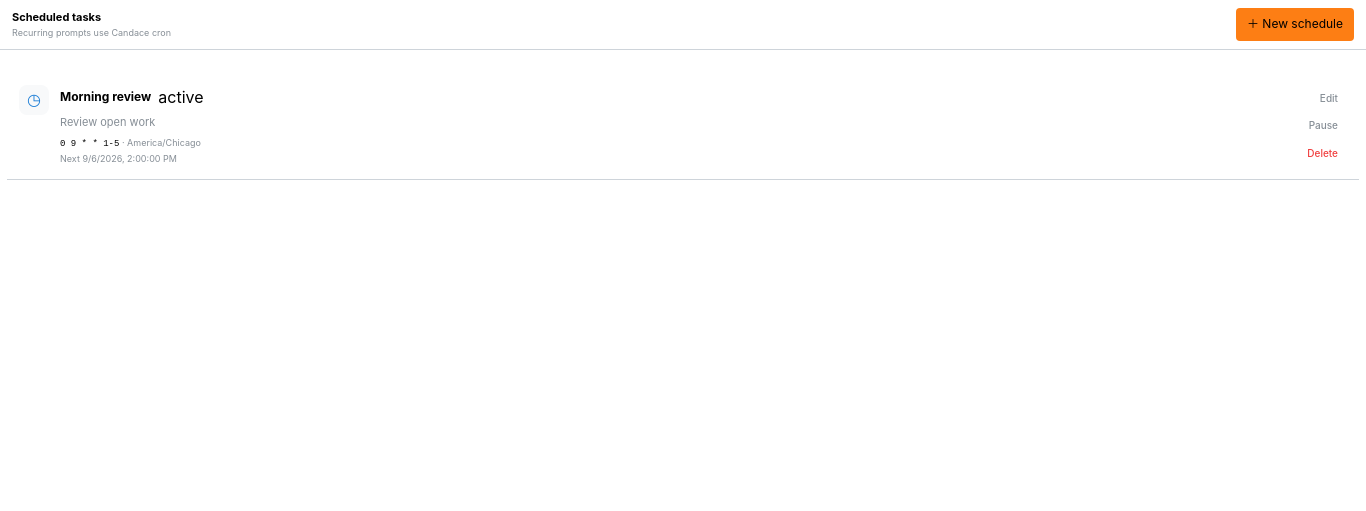
SchedulesPane › releases status and delete controls after rejected transports
Check: the text "Morning review" is shown, box [60,88,151,106]
Click the button "Pause".
click(1323, 126)  # box [1300,112,1347,140]
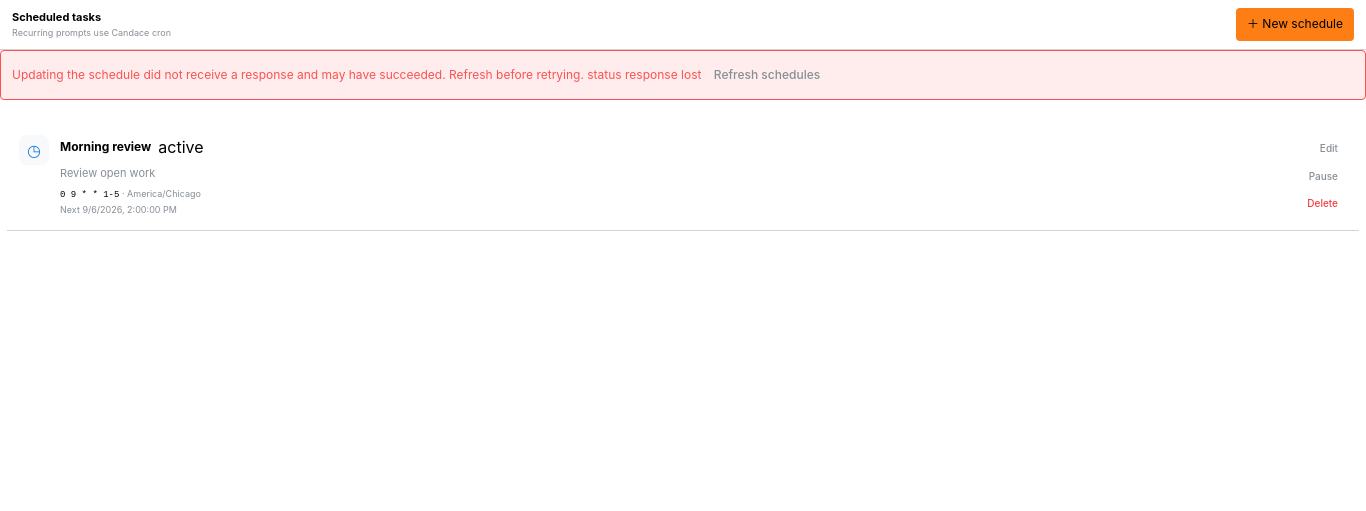
Check: the message shows "status response lost", box [12,67,701,82]
Click the button "Pause".
click(1323, 176)  # box [1300,163,1347,190]
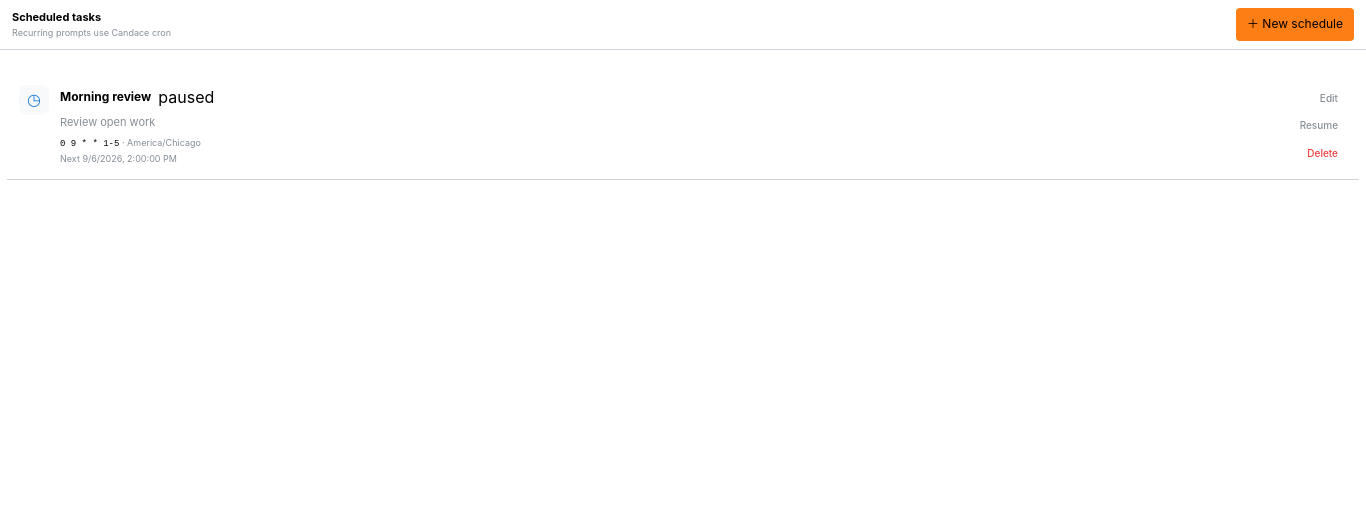
Check: the button "Resume" is shown, box [1291,112,1347,140]
Click the button "Delete".
click(1323, 153)  # box [1298,140,1347,167]
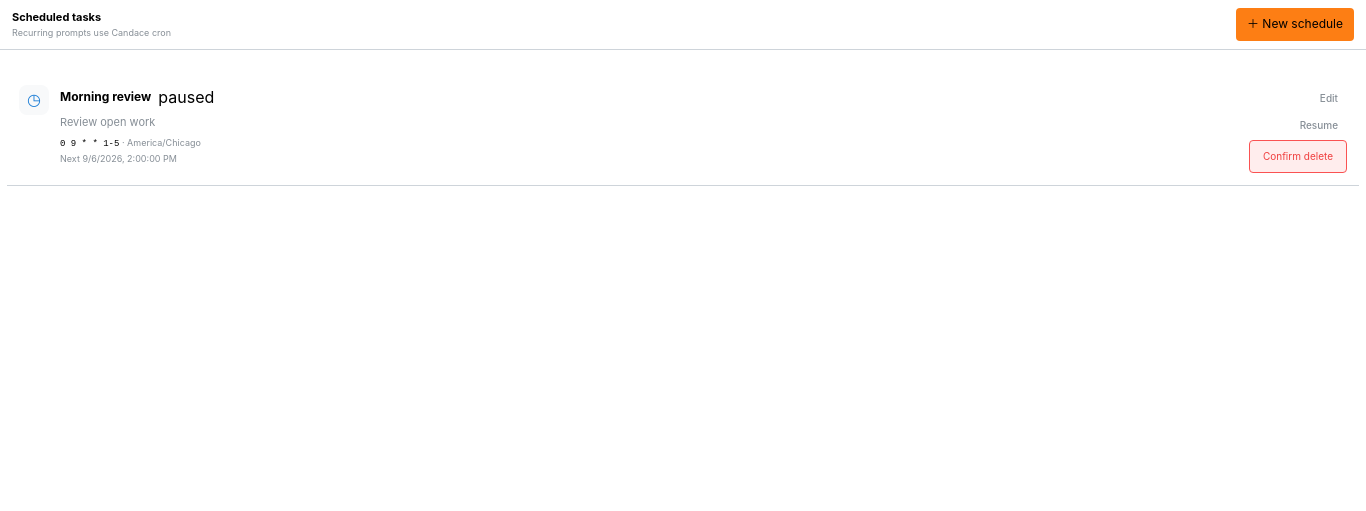
Click the button "Confirm delete".
click(1298, 156)  # box [1249,140,1347,173]
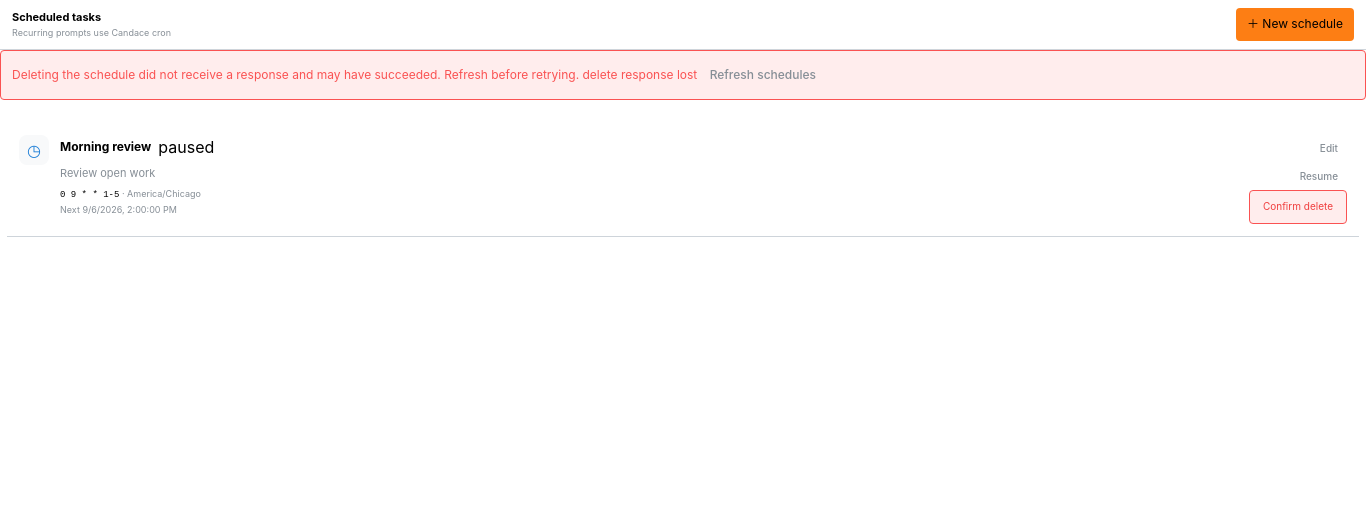
Check: the message shows "delete response lost", box [12,67,697,82]
Click the button "Confirm delete".
click(1298, 207)  # box [1249,190,1347,224]
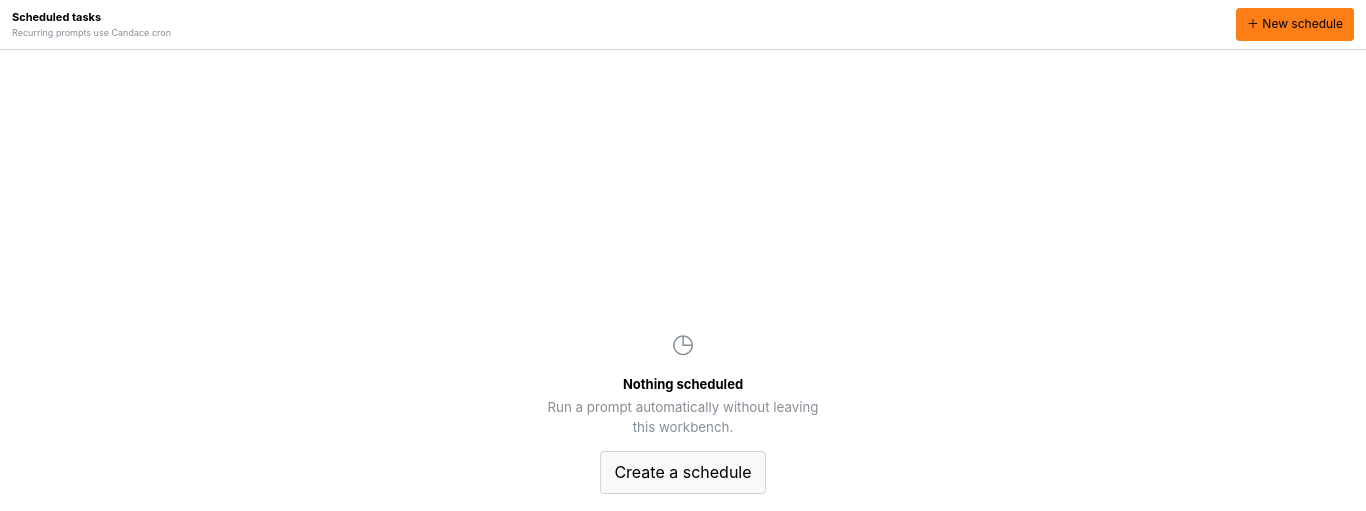
Check: the text "Nothing scheduled" is shown, box [623,374,743,394]
